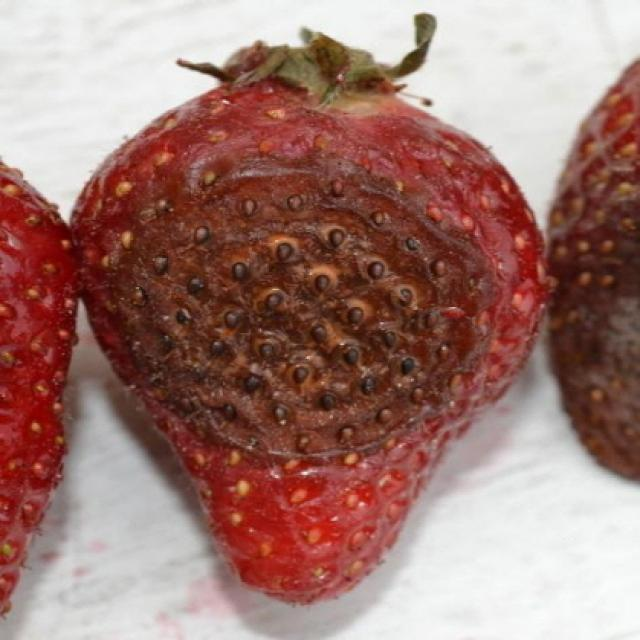Anthracnose Fruit Rot: (68, 30, 552, 608)
